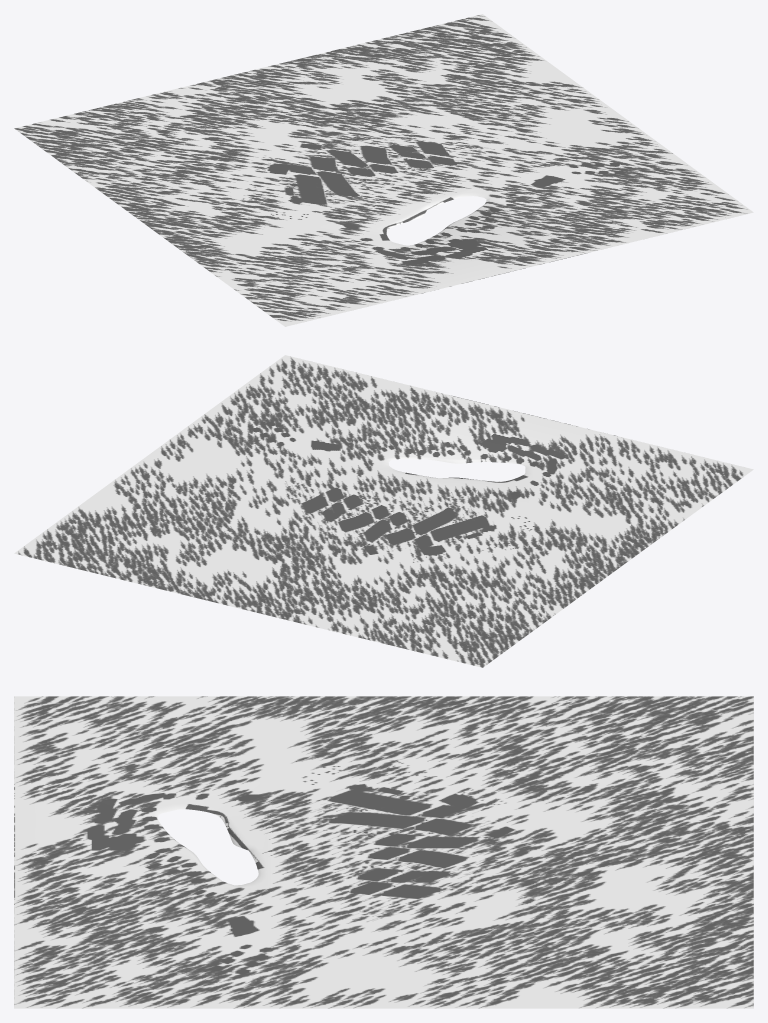
File: land_shadow.obj
3 renders of one model, top to bottom at view 1: azimuth 30°, elevation 25°; view 2: azimuth 150°, elevation 25°; view 3: azimuth 270°, elevation 25°, orthographic. The views are drawn at different scales.
Visible parts, largest first — view 1: grass_small; view 2: grass_small; view 3: grass_small.
Boxes of the visible parts, bbox=[...] form: grass_small: bbox=[14, 14, 753, 326]; grass_small: bbox=[14, 355, 753, 667]; grass_small: bbox=[14, 696, 753, 1008].
Bounding box in the file's own units: 119770 × 621 × 119977.
